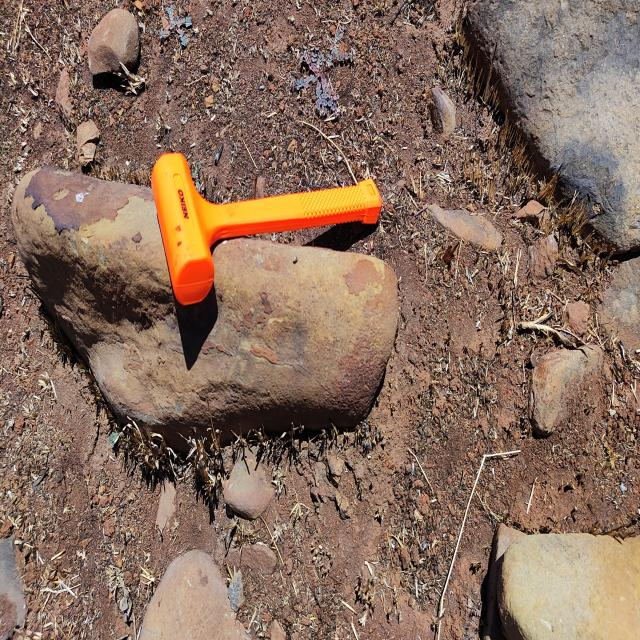Orange_hammer: (150, 150, 383, 308)
